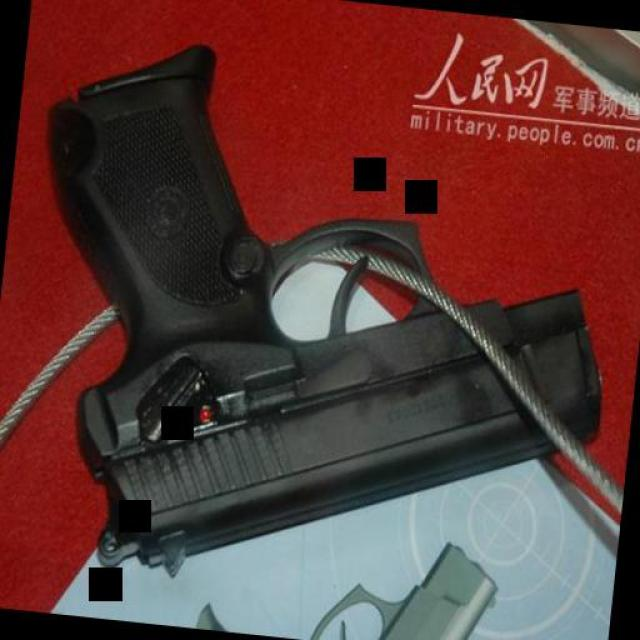gun: (0, 28, 636, 622)
